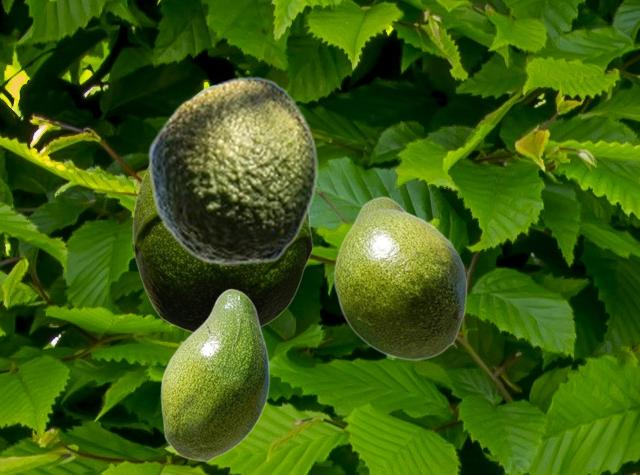avocado: (132, 83, 312, 333), (147, 76, 317, 264), (333, 196, 466, 360), (160, 288, 269, 461)
